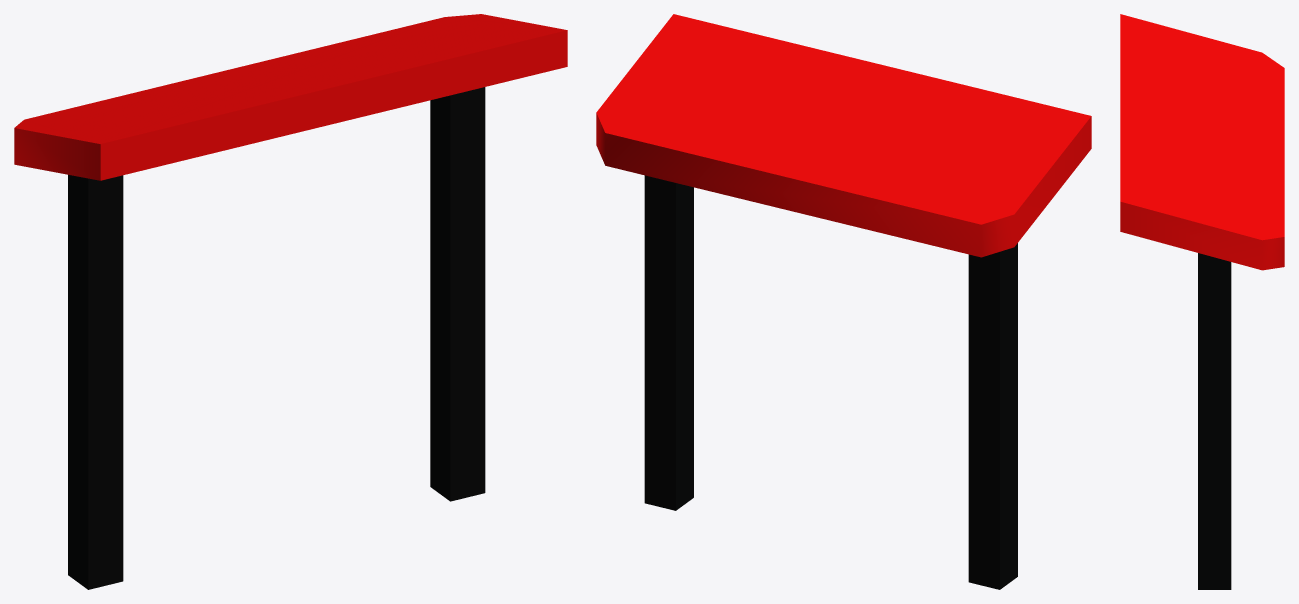
Rendered from detail-awning.glb.
3 renders of one model, left to right at view 1: azimuth 30°, elevation 25°; view 2: azimuth 150°, elevation 25°; view 3: azimuth 270°, elevation 25°, orthographic. The views are drawn at different scales.
Parts seen in each view (by area): view 1: detail-awning; view 2: detail-awning; view 3: detail-awning.
Part boxes in pixels (x1,y1,x2,y2): detail-awning: (14,14,567,589); detail-awning: (596,14,1091,589); detail-awning: (1120,14,1284,589).
Bounding box in the file's own units: 0.4 × 0.4 × 0.1479.
Materials: 1 (1 with a texture image).
